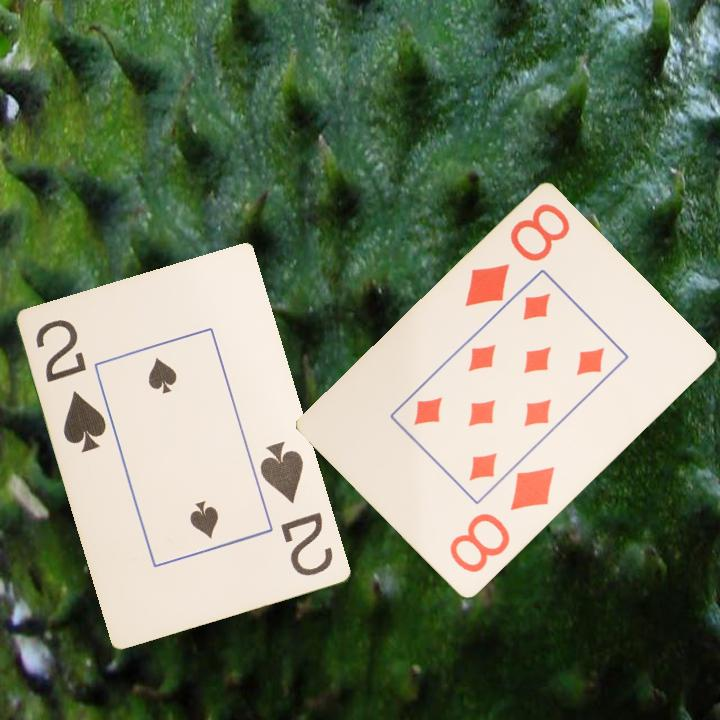2s: (256, 438, 337, 580), (32, 316, 110, 456)
8d: (446, 463, 558, 577), (460, 200, 573, 311)
